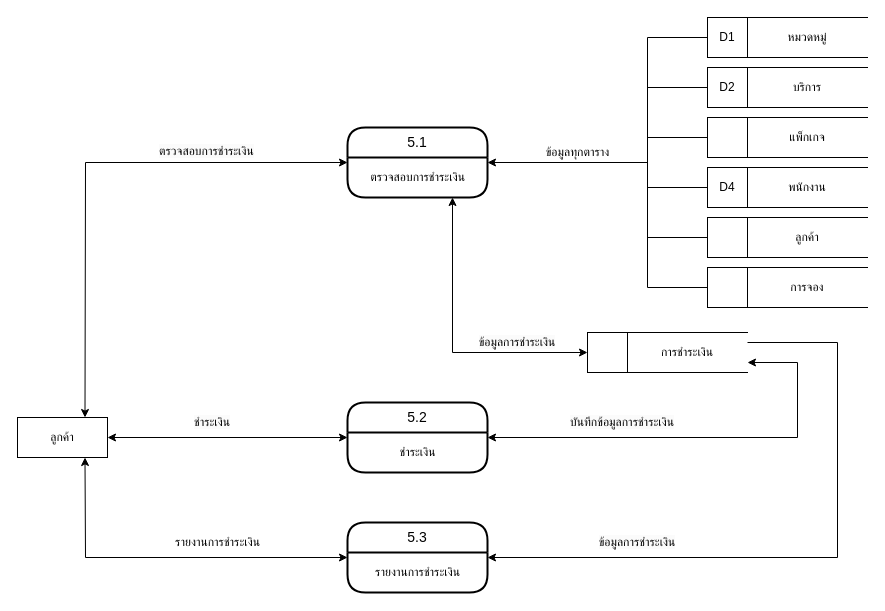
Some shapes in this 885 by 611 pixel diagram are drawn without their labels. The box of each missing label's shape, as (x1, y1, x2, y2) in pixels:
D3: (706, 116, 748, 158)
D5: (706, 216, 748, 258)
D6: (706, 266, 748, 308)
D7: (586, 332, 628, 372)
